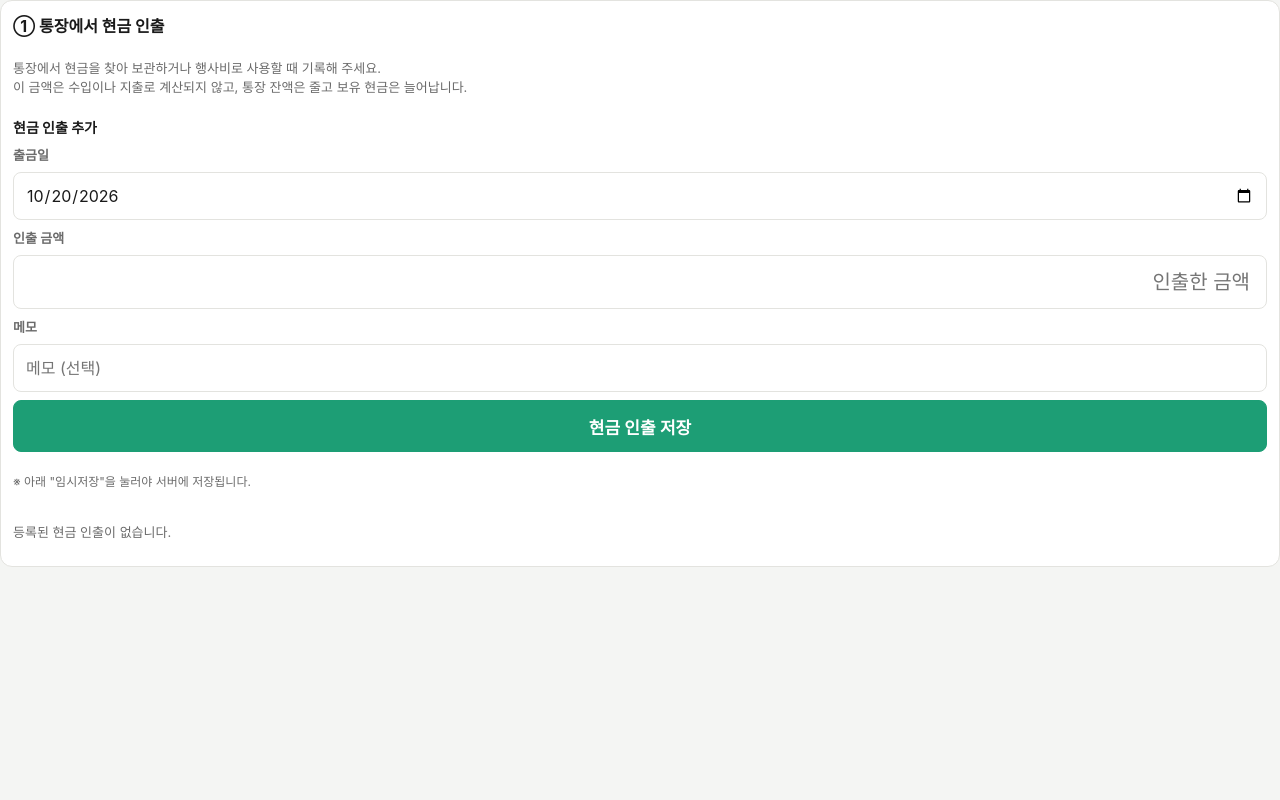
it: BankCashWithdrawalForm 화면 › 금액을 입력해 저장하면 목록에 날짜·금액·메모가 보이고 잔액이 바뀐다
The width and height of the screenshot is (1280, 800).
Type "200000" into the field named "현금 인출 금액" at {"x": 640, "y": 282}, box [13,255,1267,309]
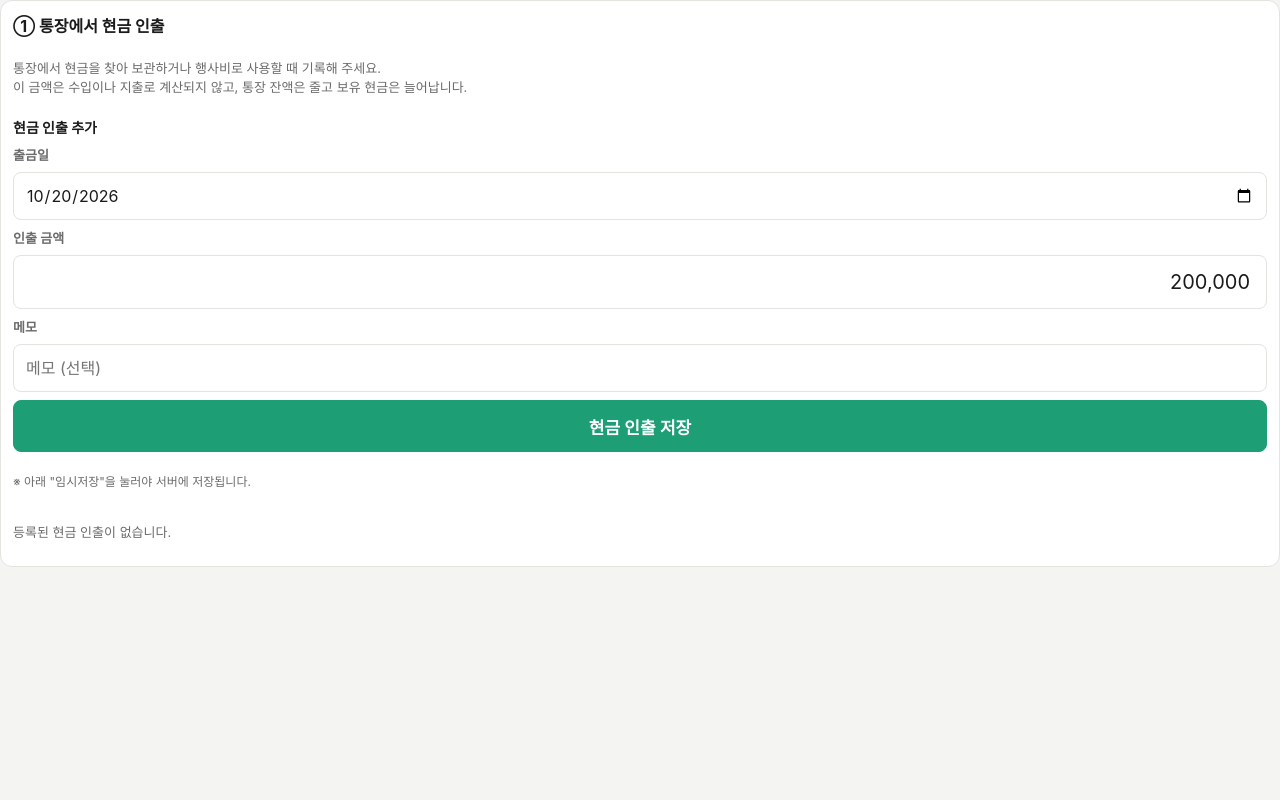
Type "2026-01-12" into the date field named "출금일" at {"x": 640, "y": 196}, box [13,172,1267,220]
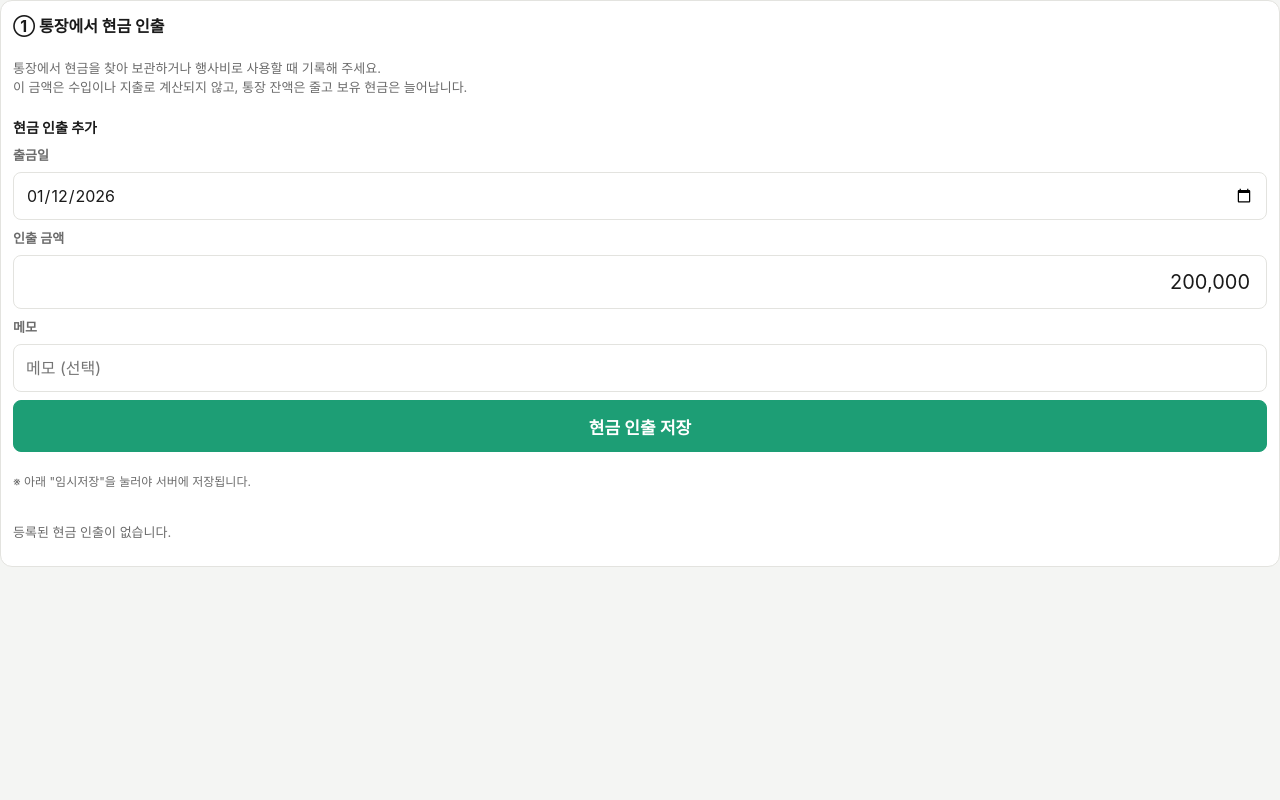
Type "현금 찾음" into the field named "현금 인출 메모" at {"x": 640, "y": 368}, box [13,344,1267,392]
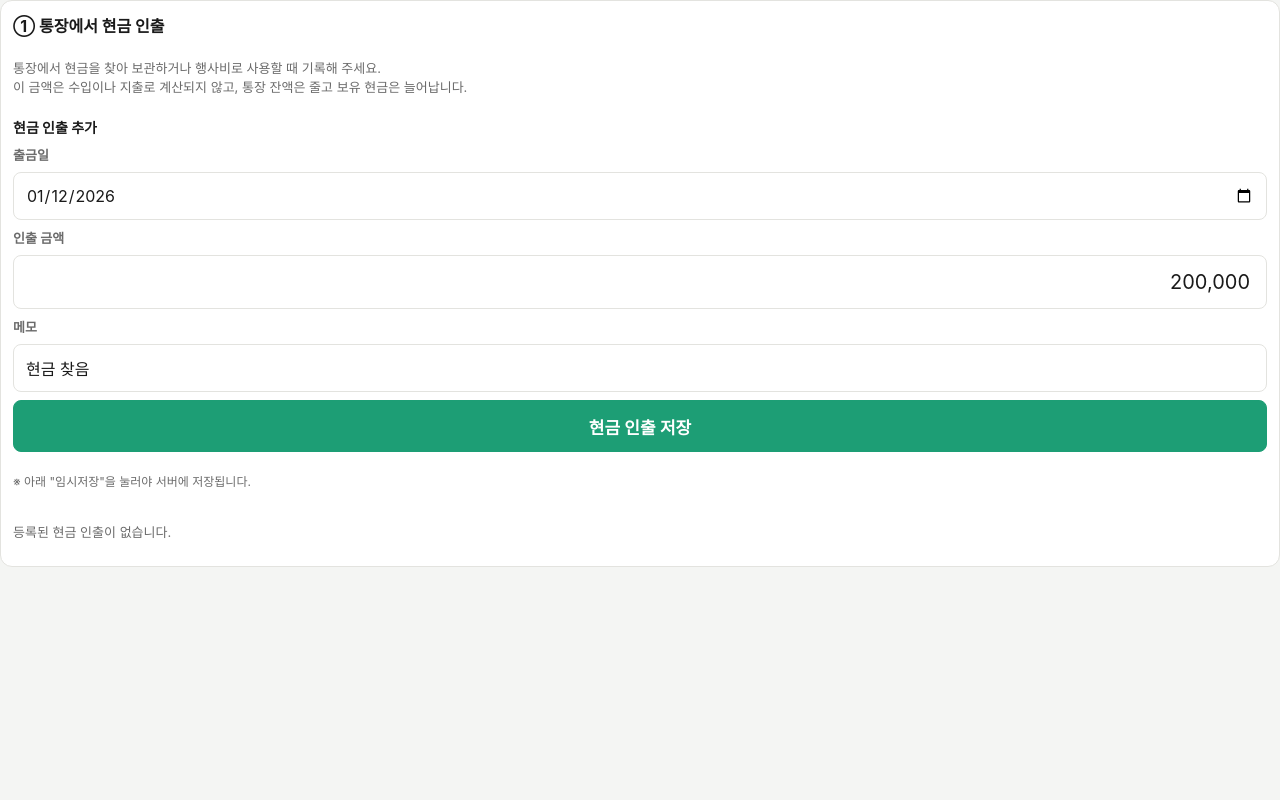
Click the button "현금 인출 저장" at {"x": 640, "y": 426}, box [13,400,1267,452]
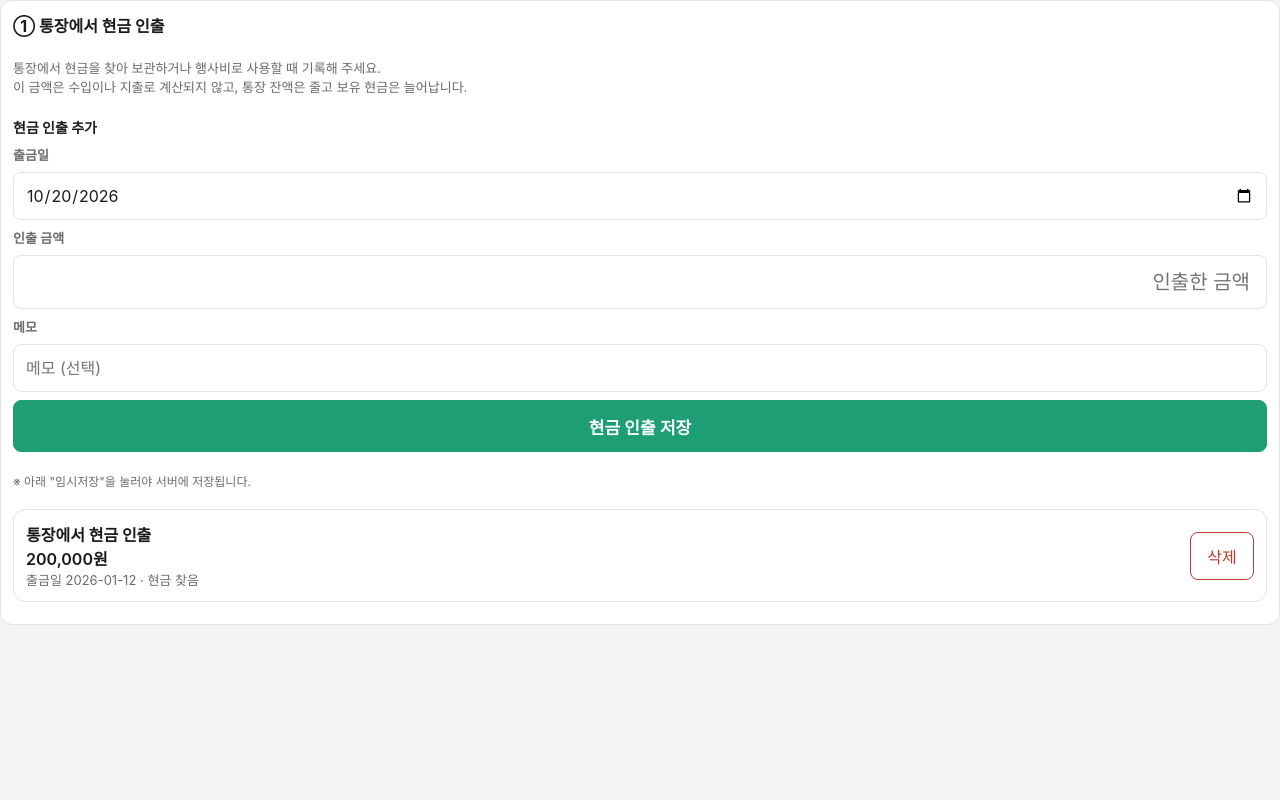
Now the text "200,000원" is shown, box [26,549,108,569]
Now the text "출금일 2026-01-12 · 현금 찾음" is shown, box [26,570,199,589]
